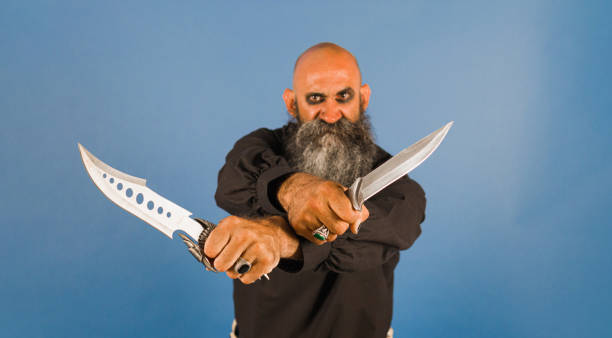knife: (77, 142, 272, 285), (345, 121, 454, 209)
